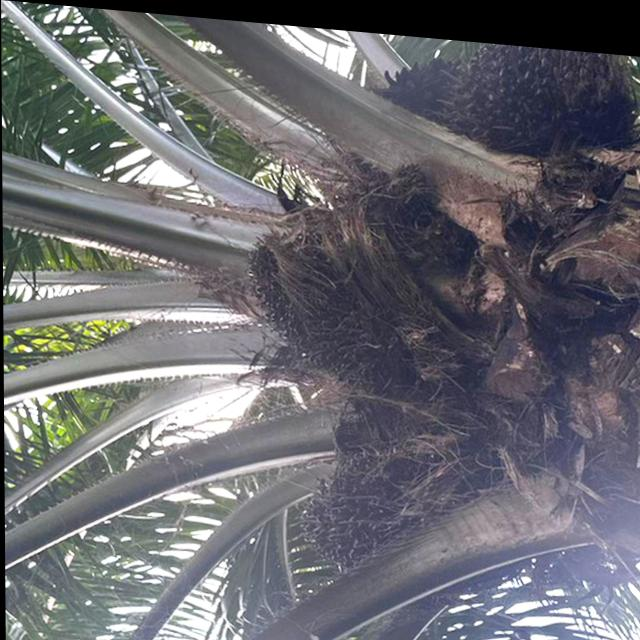unripe: (246, 207, 427, 401), (430, 30, 640, 156), (291, 442, 437, 575)
